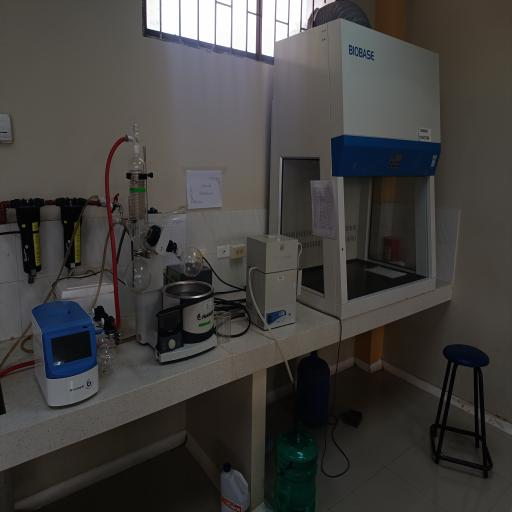Camara_Extractora_Biobase: (262, 24, 448, 333)
